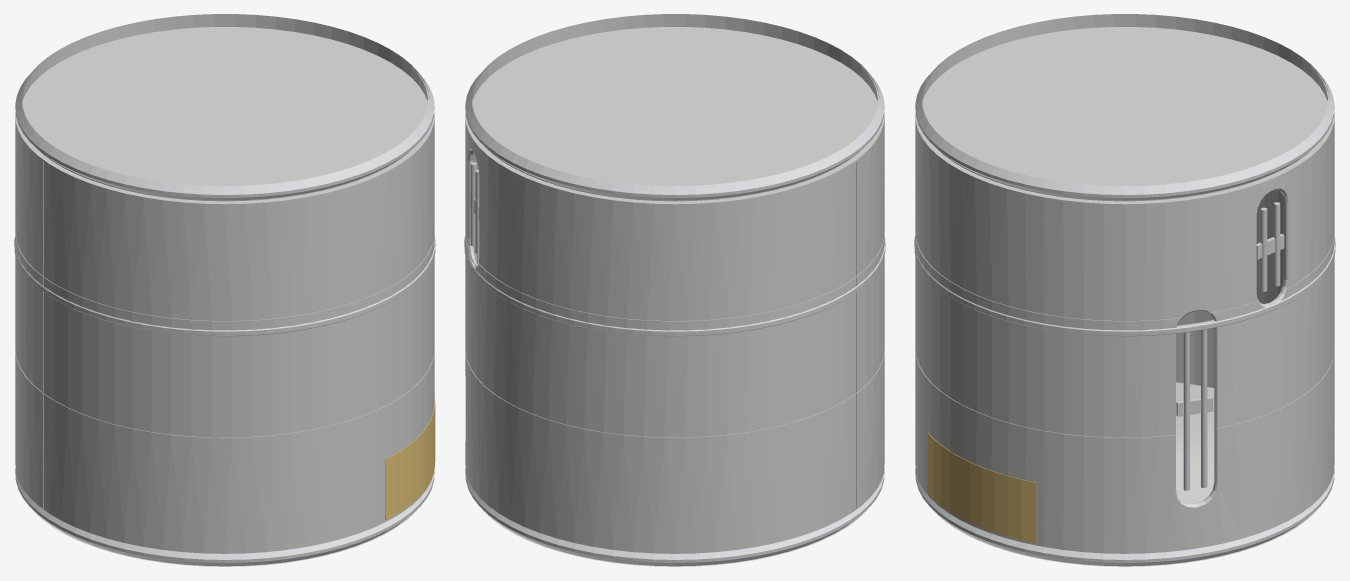
The model's file is ax_tank_03_heavy_methalox_xl_short.glb.
3 views of the same model, side by side, from view 1: azimuth 30°, elevation 25°; view 2: azimuth 150°, elevation 25°; view 3: azimuth 270°, elevation 25° (orthographic).
Parts seen in each view (by area): view 1: tank_barrel, dome_caps, end_rings, mli_patch, common_bulkhead_ring; view 2: tank_barrel, dome_caps, end_rings, common_bulkhead_ring, raceway_lines; view 3: tank_barrel, dome_caps, end_rings, mli_patch, raceway_lines, common_bulkhead_ring.
Boxes of the visible parts, x1,y1,x2,y2 form: tank_barrel: [15, 113, 434, 553]; dome_caps: [22, 27, 427, 201]; end_rings: [15, 14, 434, 566]; mli_patch: [385, 398, 435, 519]; common_bulkhead_ring: [14, 236, 435, 336]; tank_barrel: [465, 113, 884, 553]; dome_caps: [472, 27, 877, 201]; end_rings: [465, 14, 884, 566]; common_bulkhead_ring: [464, 236, 885, 336]; raceway_lines: [470, 162, 479, 262]; tank_barrel: [915, 113, 1334, 553]; dome_caps: [922, 27, 1327, 502]; end_rings: [915, 14, 1334, 566]; mli_patch: [927, 432, 1036, 543]; raceway_lines: [1176, 202, 1284, 490]; common_bulkhead_ring: [914, 236, 1335, 336].
Bounding box in the file's own units: 5.02 × 5 × 5.02.
